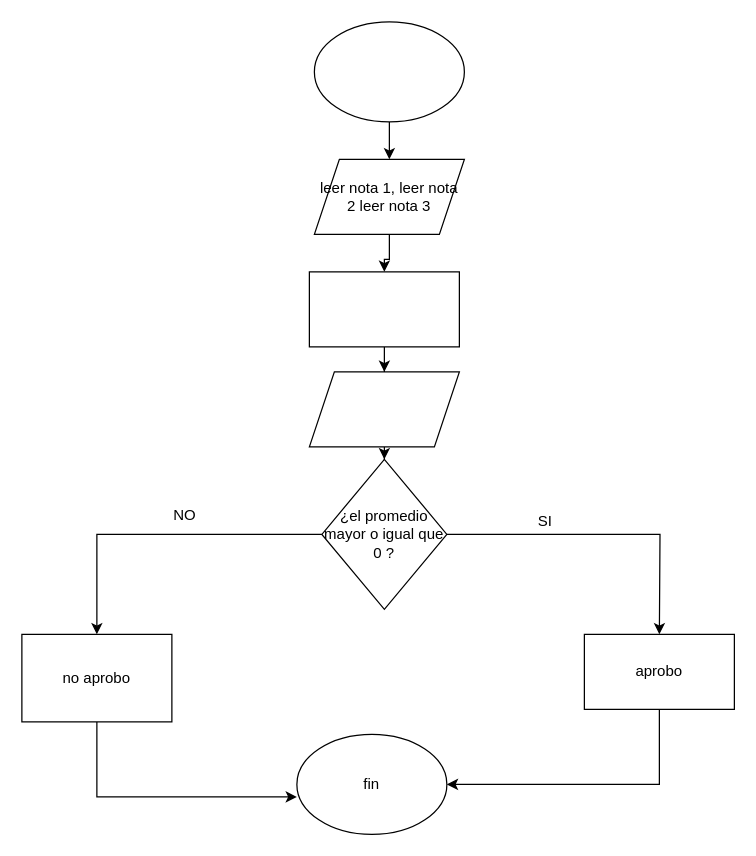
Some shapes in this 756 by 856 pixel diagram are drawn without their labels. Here are the shapes that lost their labels. From the top down, the centre of each, then its label:
At [388,71]: "inicio".
At [383,309]: "promedio=(nota 1,nota2,nota3)/3".
At [383,409]: "mostar promedio".
